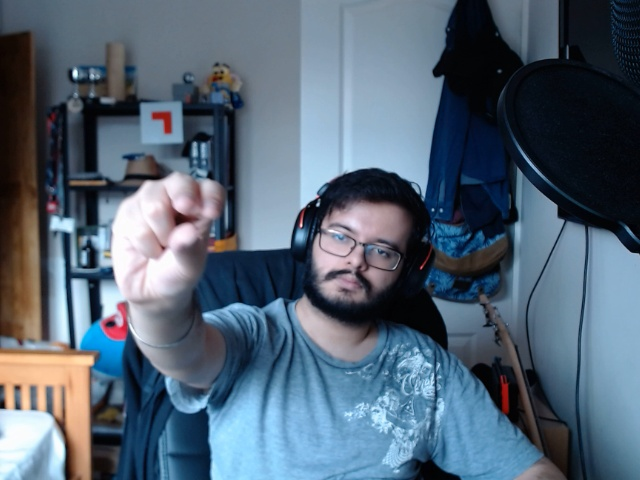No: (82, 158, 251, 321)
